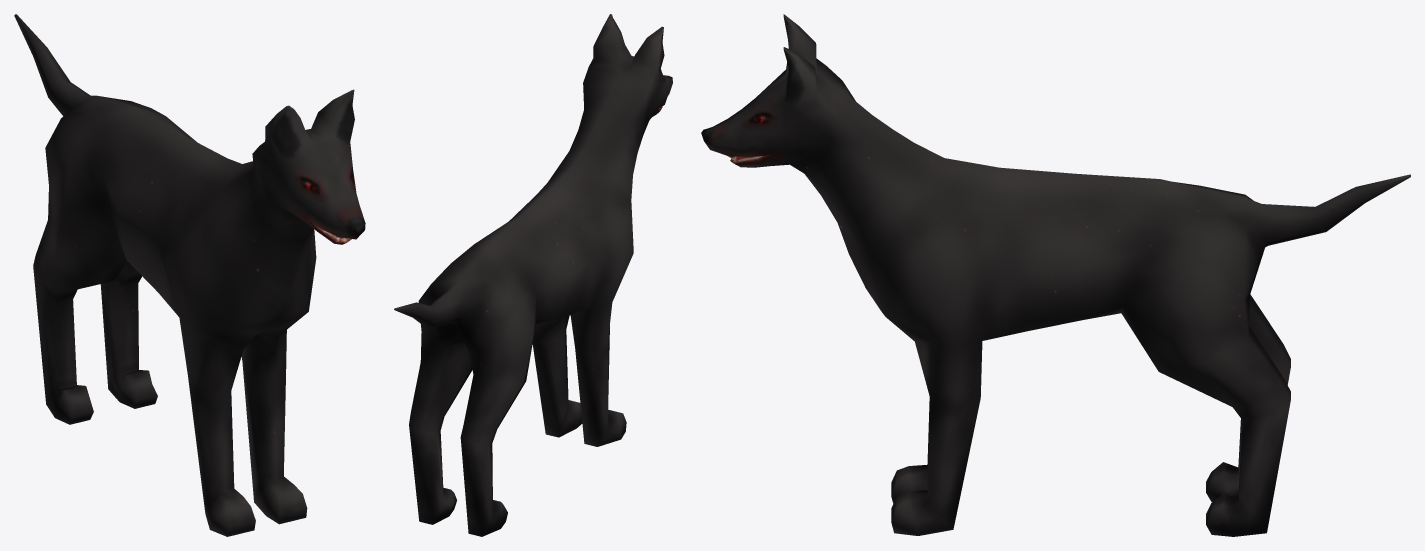
Rendered from HellhoundDummy_PH_230913.fbx.
3 views of the same model, side by side, from view 1: azimuth 30°, elevation 25°; view 2: azimuth 150°, elevation 25°; view 3: azimuth 270°, elevation 25° (orthographic). The views are drawn at different scales.
Visible parts, largest first — view 1: HellhoundDummy; view 2: HellhoundDummy; view 3: HellhoundDummy.
Part boxes in pixels (x1,y1,x2,y2): HellhoundDummy: (14,14,365,536); HellhoundDummy: (394,14,672,536); HellhoundDummy: (701,14,1410,536).
Bounding box in the file's own units: 1.2 × 4.07 × 5.43.
